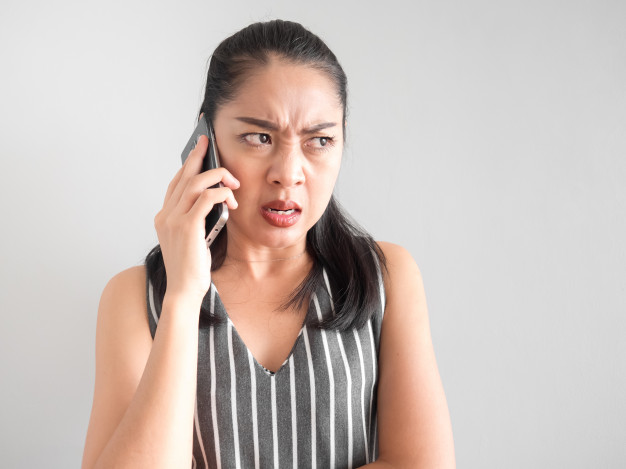phone: (157, 116, 242, 253)
talk: (156, 112, 342, 290)
